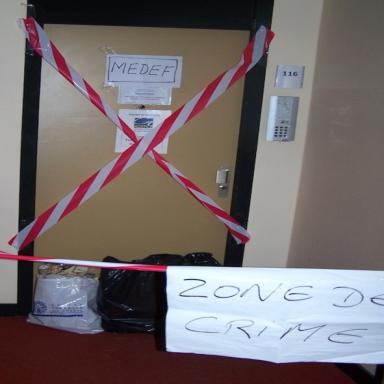plasticbag: (99, 250, 225, 334), (24, 267, 105, 335)
